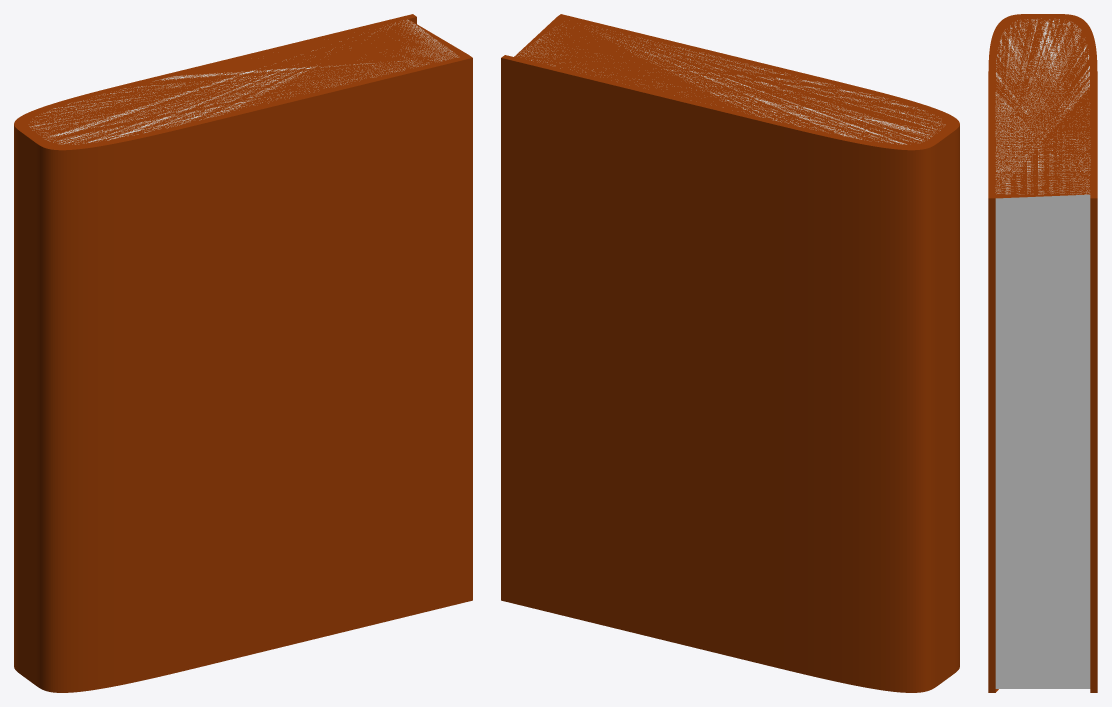
The model's file is book_1.fbx.
3 renders of one model, left to right at view 1: azimuth 30°, elevation 25°; view 2: azimuth 150°, elevation 25°; view 3: azimuth 270°, elevation 25°, orthographic. The views are drawn at different scales.
Parts seen in each view (by area): view 1: Case, Page; view 2: Case, Page; view 3: Page, Case.
Boxes of the visible parts, x1=… form: Case: x1=14, y1=14, x2=472, y2=692; Page: x1=29, y1=19, x2=458, y2=144; Case: x1=501, y1=14, x2=959, y2=692; Page: x1=517, y1=26, x2=945, y2=144; Page: x1=995, y1=18, x2=1090, y2=688; Case: x1=988, y1=14, x2=1097, y2=692.
Size of the model in its own units: 80 by 100 by 20.
